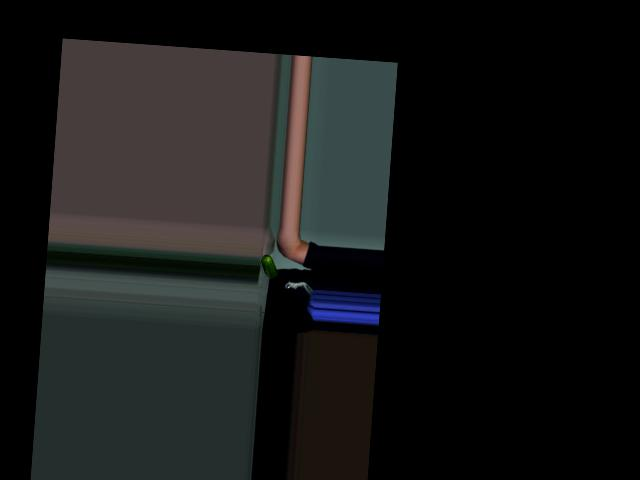cucumber: (259, 254, 278, 279)
